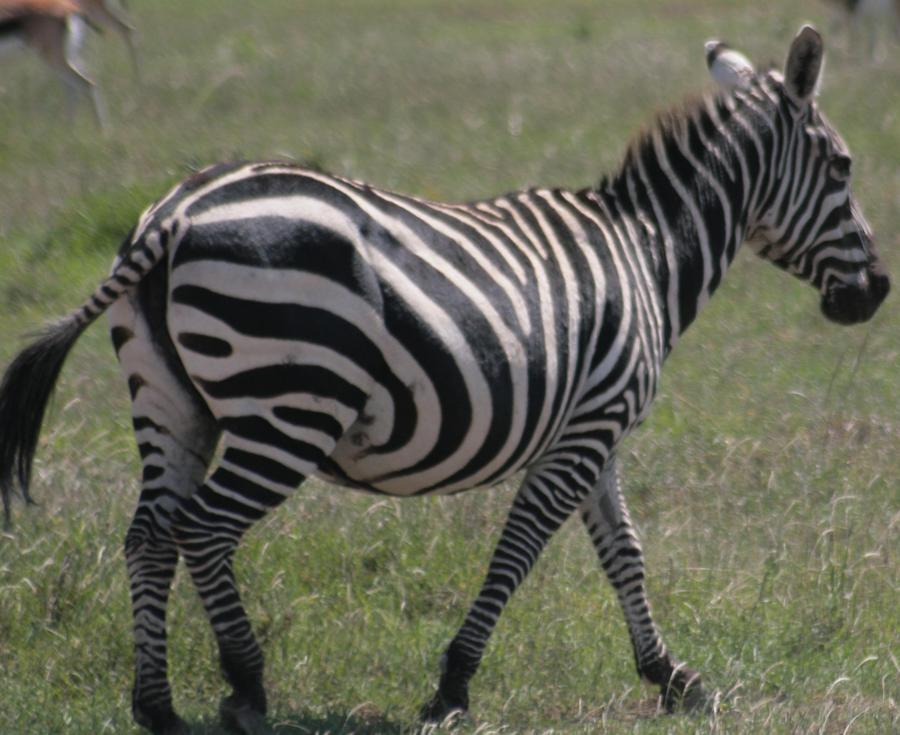zebra_plains: (201, 178, 654, 506)
